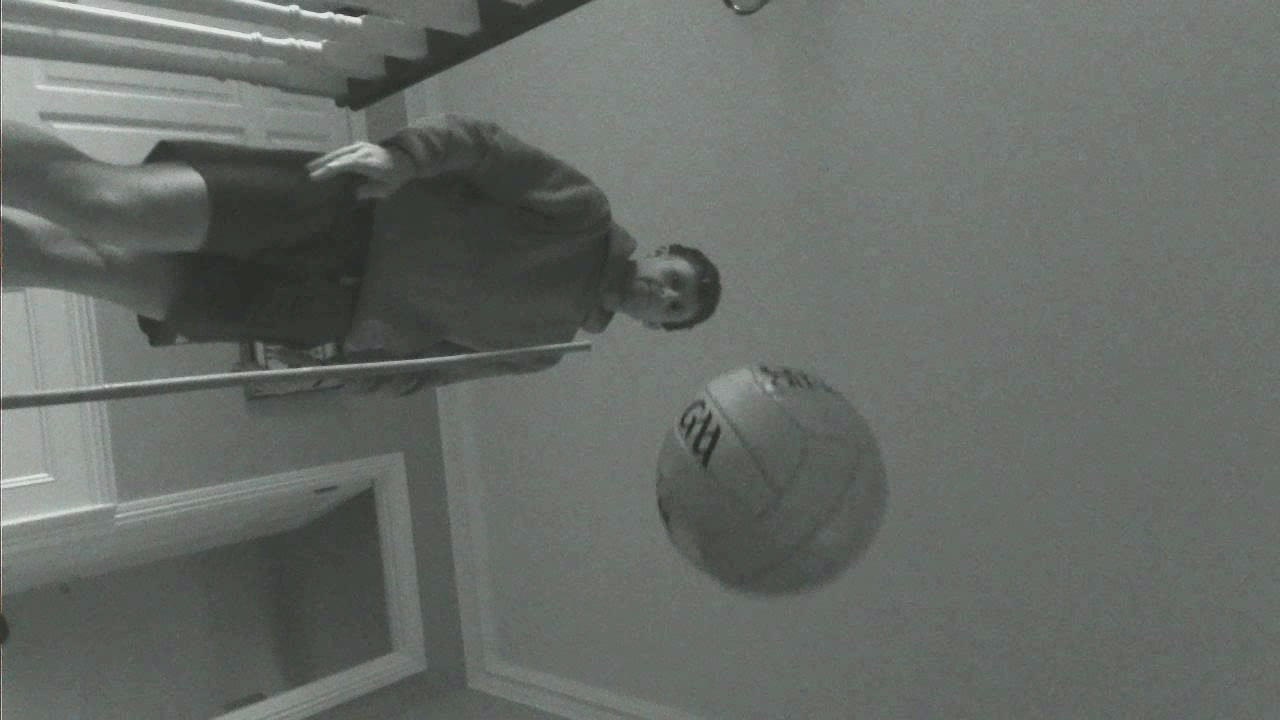Football-Spotter: (656, 364, 885, 593)
